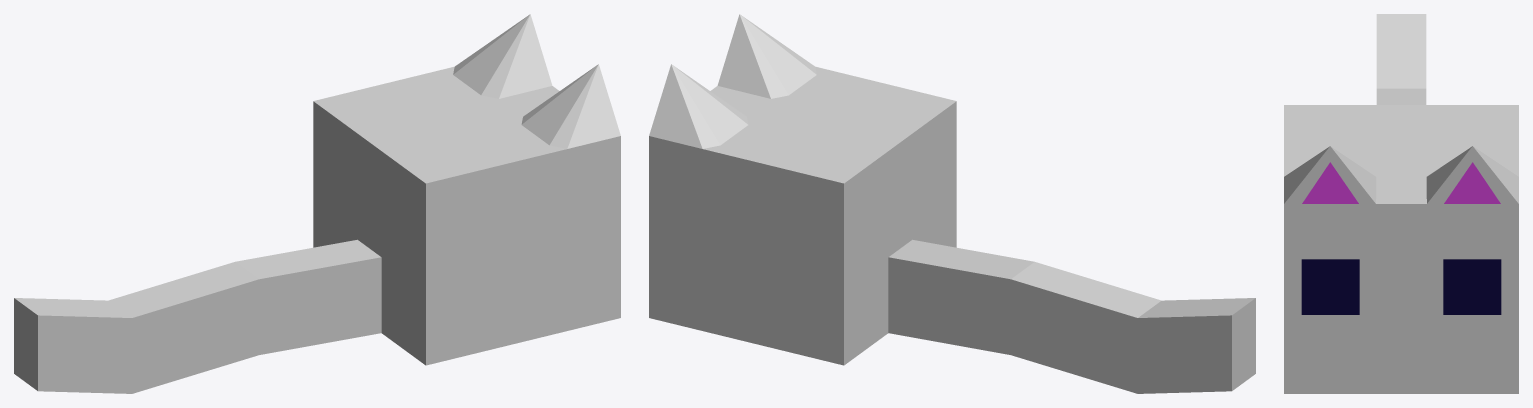
File: hero1.fbx
3 renders of one model, left to right at view 1: azimuth 30°, elevation 25°; view 2: azimuth 150°, elevation 25°; view 3: azimuth 270°, elevation 25°, orthographic. The views are drawn at different scales.
Visible parts, largest first — view 1: Neko.000; view 2: Neko.000; view 3: Neko.000.
Part boxes in pixels (x1,y1,x2,y2): Neko.000: (14,14,620,393); Neko.000: (649,14,1255,393); Neko.000: (1284,14,1518,393).
Bounding box in the file's own units: 40 × 46.59 × 110.
